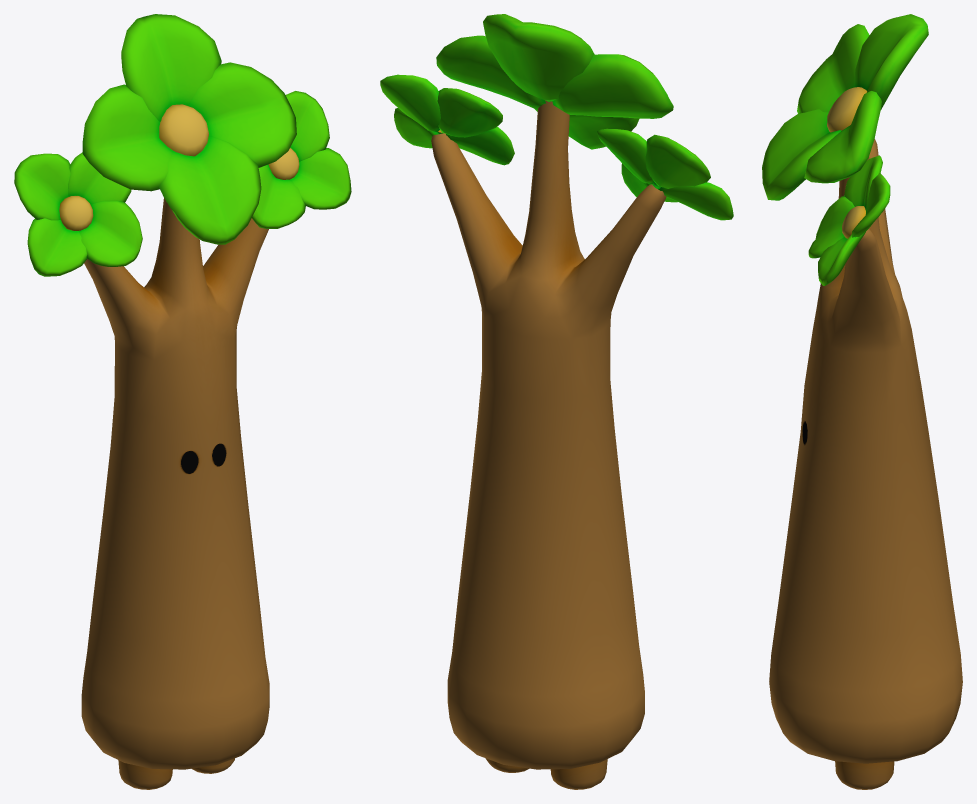
File: Flower07.fbx
3 views of the same model, side by side, from view 1: azimuth 30°, elevation 25°; view 2: azimuth 150°, elevation 25°; view 3: azimuth 270°, elevation 25° (orthographic). The views are drawn at different scales.
Parts seen in each view (by area): view 1: polySurface1, polySurface13, polySurface9, polySurface10, polySurface12, polySurface17, polySurface15, polySurface6, polySurface16, polySurface7, polySurface5, polySurface11 (+4 smaller); view 2: polySurface1, polySurface9, polySurface12, polySurface10, polySurface15, polySurface8, polySurface5, polySurface16, polySurface18, polySurface7, polySurface13, polySurface3 (+1 smaller); view 3: polySurface1, polySurface13, polySurface9, polySurface10, polySurface12, polySurface2, polySurface7, polySurface6, polySurface8, polySurface5, polySurface11, polySurface4.
Boxes of the visible parts, x1,y1,x2,y2 form: polySurface1: (81, 198, 269, 769); polySurface13: (159, 136, 261, 244); polySurface9: (121, 14, 221, 121); polySurface10: (188, 62, 296, 167); polySurface12: (82, 84, 172, 191); polySurface17: (79, 200, 142, 266); polySurface15: (14, 153, 70, 220); polySurface6: (291, 148, 351, 209); polySurface16: (27, 218, 87, 276); polySurface7: (252, 164, 305, 228); polySurface5: (285, 91, 329, 161); polySurface11: (159, 104, 208, 156); polySurface1: (431, 100, 666, 769); polySurface9: (483, 14, 594, 101); polySurface12: (552, 54, 673, 118); polySurface10: (436, 35, 545, 109); polySurface15: (645, 134, 710, 188); polySurface8: (437, 88, 502, 137); polySurface5: (380, 74, 440, 131); polySurface16: (658, 182, 733, 220); polySurface18: (597, 128, 654, 183); polySurface7: (446, 126, 514, 165); polySurface13: (534, 108, 639, 149); polySurface3: (550, 759, 607, 789); polySurface1: (769, 139, 962, 763); polySurface13: (762, 109, 841, 200); polySurface9: (854, 14, 928, 109); polySurface10: (804, 91, 881, 183); polySurface12: (797, 24, 869, 113); polySurface2: (835, 761, 894, 789); polySurface7: (808, 196, 854, 258); polySurface6: (818, 231, 865, 285); polySurface8: (844, 155, 882, 209); polySurface5: (852, 173, 890, 237); polySurface11: (827, 87, 866, 132); polySurface4: (842, 206, 865, 238).
Bounding box in the file's own units: 38.65 × 85.04 × 20.8.
1 material, 1 textured.
